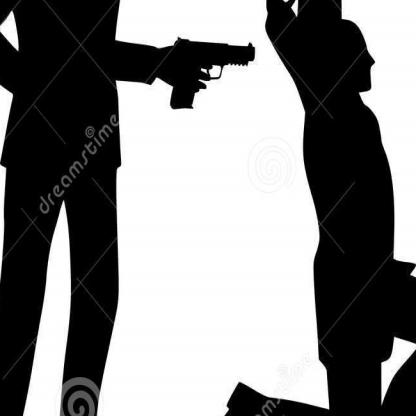gun: (166, 24, 265, 121)
